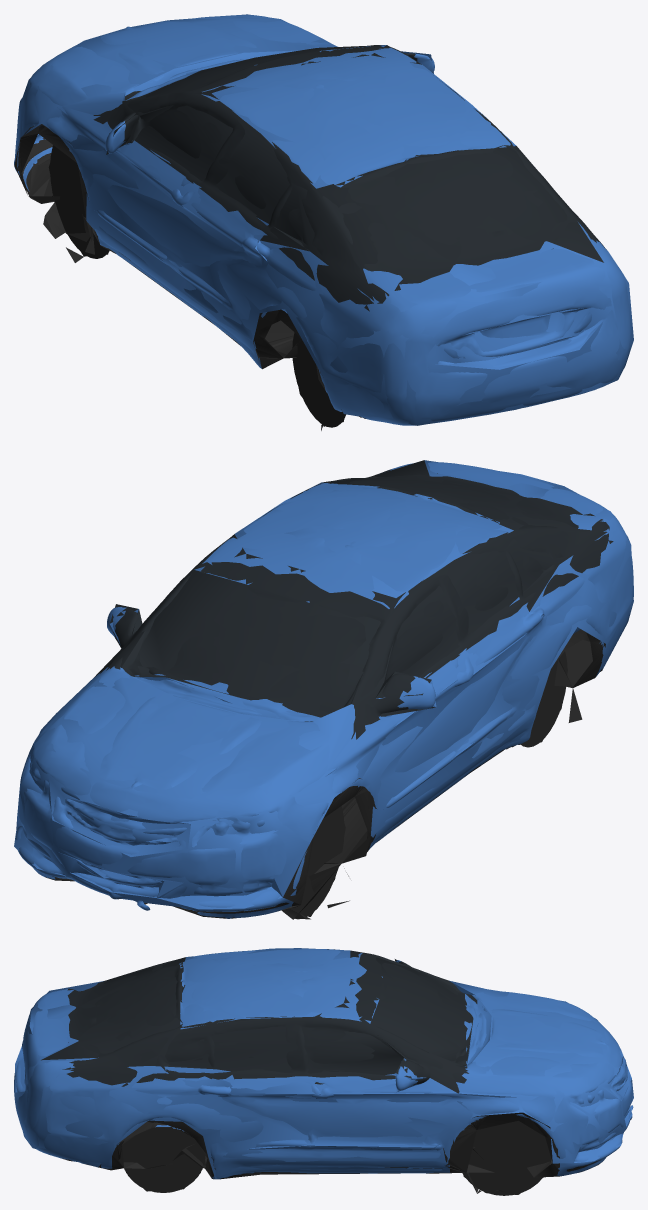
The model's file is chevrolet-impala.glb.
3 renders of one model, top to bottom at view 1: azimuth 30°, elevation 25°; view 2: azimuth 150°, elevation 25°; view 3: azimuth 270°, elevation 25°, orthographic. The views are drawn at different scales.
Visible parts, largest first — view 1: body, far; view 2: body, far; view 3: body, far.
Boxes of the visible parts, <box> form: body: <box>14,15,630,427</box>; far: <box>14,14,633,430</box>; body: <box>15,462,633,919</box>; far: <box>14,460,633,916</box>; body: <box>14,949,633,1195</box>; far: <box>15,948,633,1194</box>.
Bounding box in the file's own units: 2.33 × 1.67 × 5.18.
